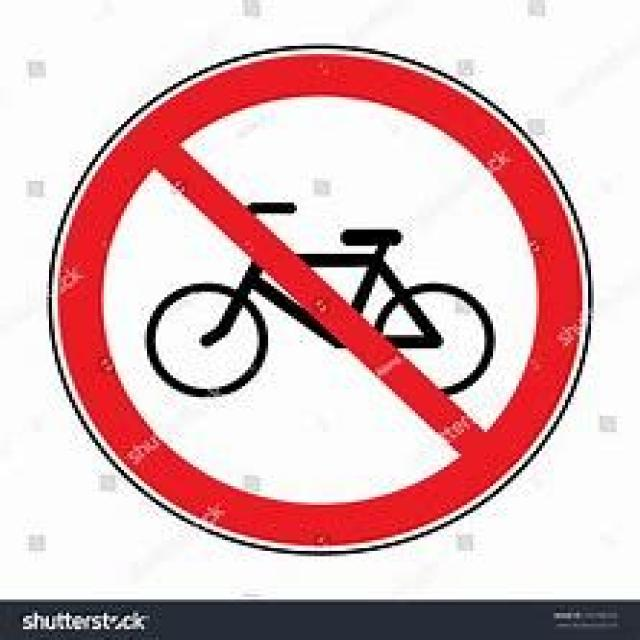cycle_prohibited: (49, 41, 591, 556)
